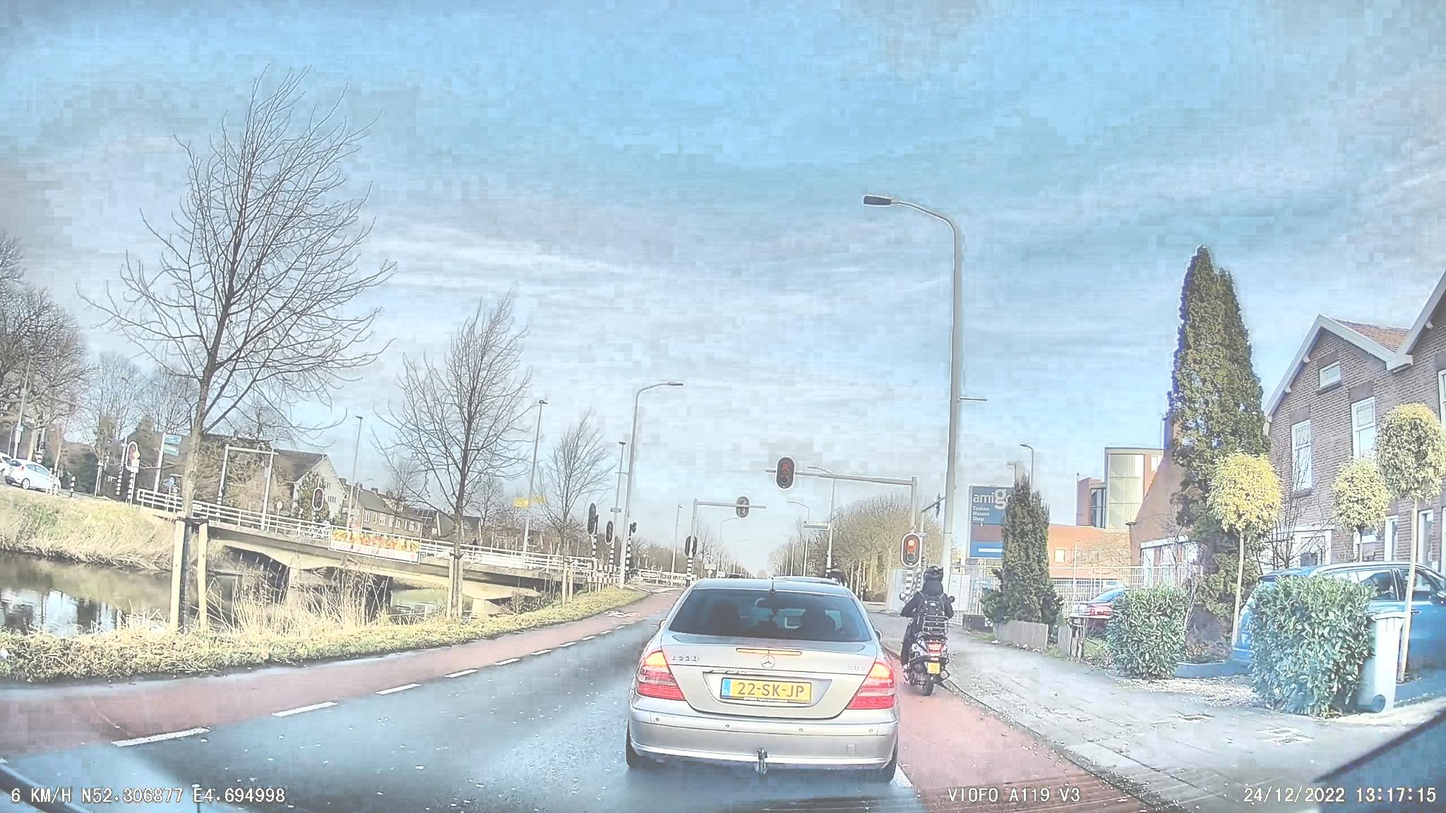Roads: (0, 614, 1156, 813)
